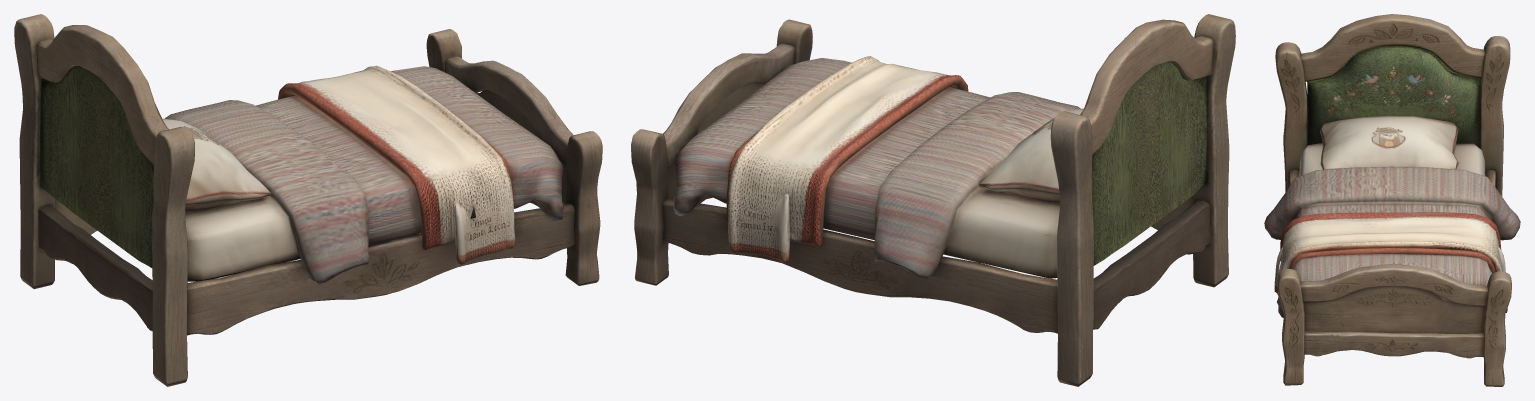
The model's file is bed.glb.
The picture shows the model from 3 angles, left to right: view 1: azimuth 30°, elevation 25°; view 2: azimuth 150°, elevation 25°; view 3: azimuth 270°, elevation 25°; orthographic projection. The views are drawn at different scales.
Visible parts, largest first — view 1: tripo_node_1e33e885-1b60-4a0c-81d3-67d9fae5cf51; view 2: tripo_node_1e33e885-1b60-4a0c-81d3-67d9fae5cf51; view 3: tripo_node_1e33e885-1b60-4a0c-81d3-67d9fae5cf51.
Boxes of the visible parts, <box> form: tripo_node_1e33e885-1b60-4a0c-81d3-67d9fae5cf51: <box>14,14,602,386</box>; tripo_node_1e33e885-1b60-4a0c-81d3-67d9fae5cf51: <box>631,14,1235,386</box>; tripo_node_1e33e885-1b60-4a0c-81d3-67d9fae5cf51: <box>1264,14,1520,386</box>.
Size of the model in its own units: 0.998 by 0.6465 by 0.6855.
1 material, 1 textured.
